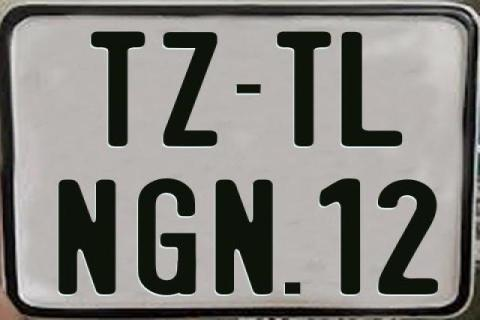0: (378, 179, 442, 296), (319, 176, 365, 292)
G: (136, 176, 200, 294)
L: (339, 32, 400, 149)
N: (212, 179, 276, 297), (56, 180, 115, 296)
T: (278, 32, 334, 152), (92, 30, 146, 146)
Z: (162, 31, 220, 151)
